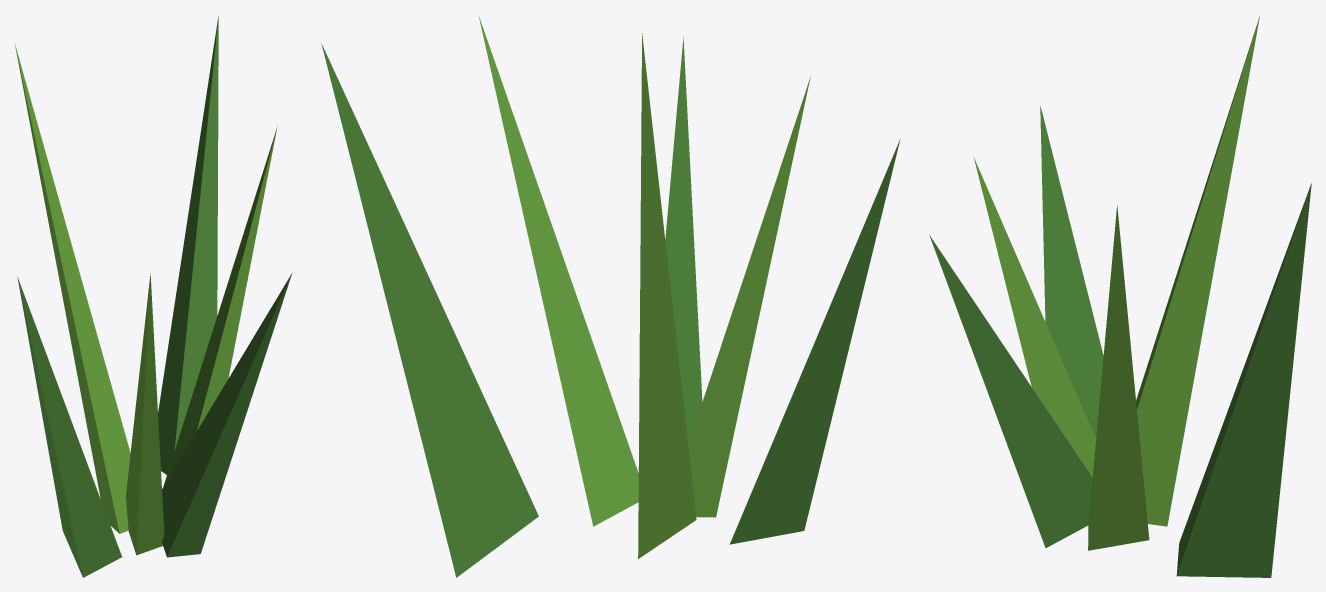
Rendered from HS_LP_Grass_04.fbx.
3 renders of one model, left to right at view 1: azimuth 30°, elevation 25°; view 2: azimuth 150°, elevation 25°; view 3: azimuth 270°, elevation 25°, orthographic. The views are drawn at different scales.
Parts seen in each view (by area): view 1: HS_LP_Grass_04; view 2: HS_LP_Grass_04; view 3: HS_LP_Grass_04.
Part boxes in pixels (x1,y1,x2,y2): HS_LP_Grass_04: (14, 16, 292, 577); HS_LP_Grass_04: (321, 16, 900, 577); HS_LP_Grass_04: (929, 16, 1311, 577).
Bounding box in the file's own units: 20.28 × 27.11 × 19.17.
